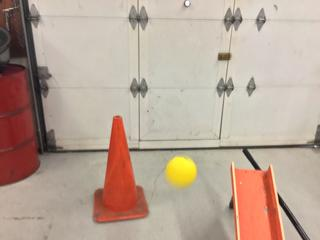power_cell: (164, 153, 200, 190)
